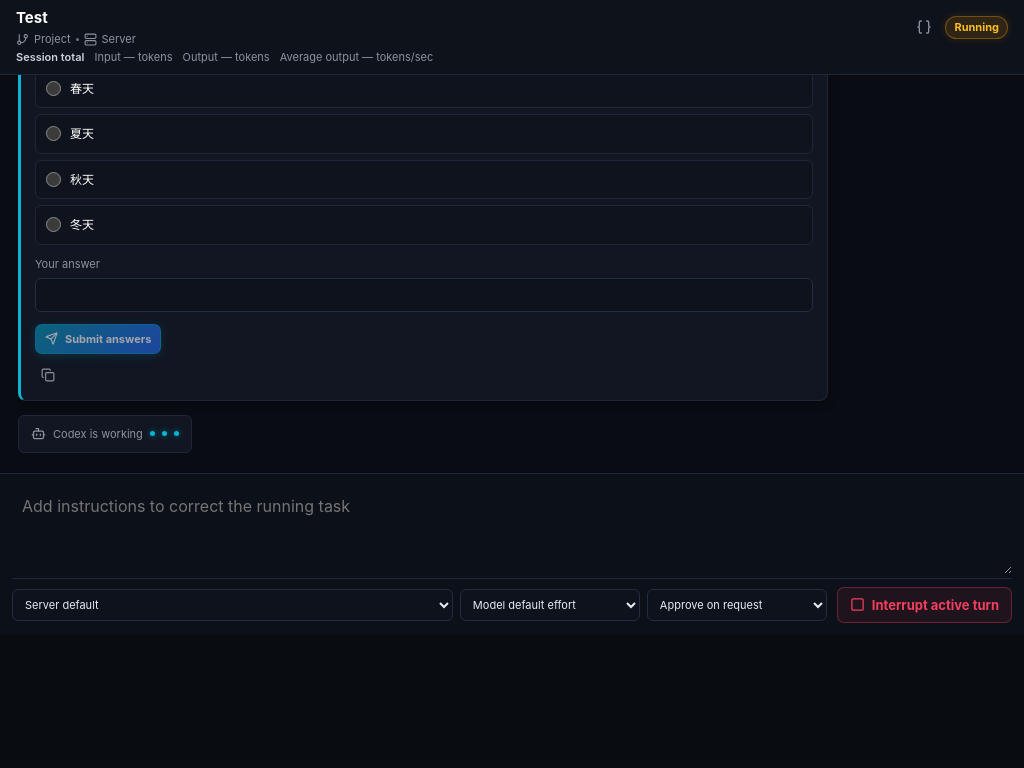
Scenario: handles a turn ending between status lookup and submitting the answer
(page scrolled)
Click the radio button labelled "夏天".
click(54, 134)  # box 46,126 -> 61,141
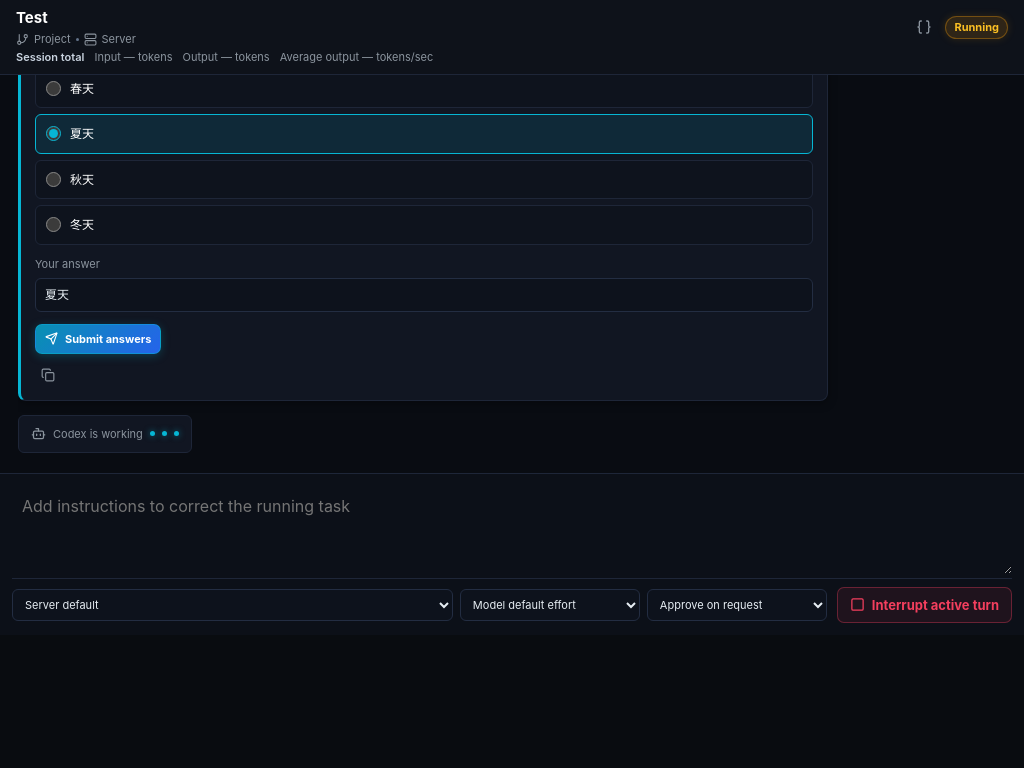
Click the button "Submit answers".
click(98, 338)  # box 35,324 -> 161,354
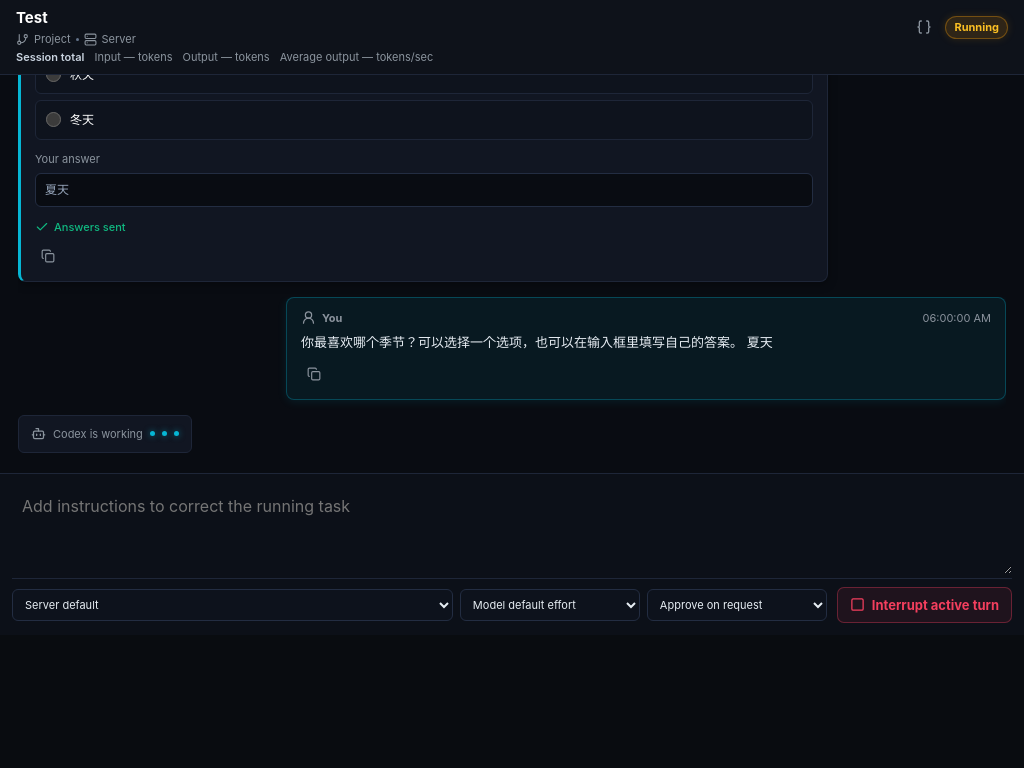
Expected: the button "Answers sent" is disabled, 35,218 -> 126,235
